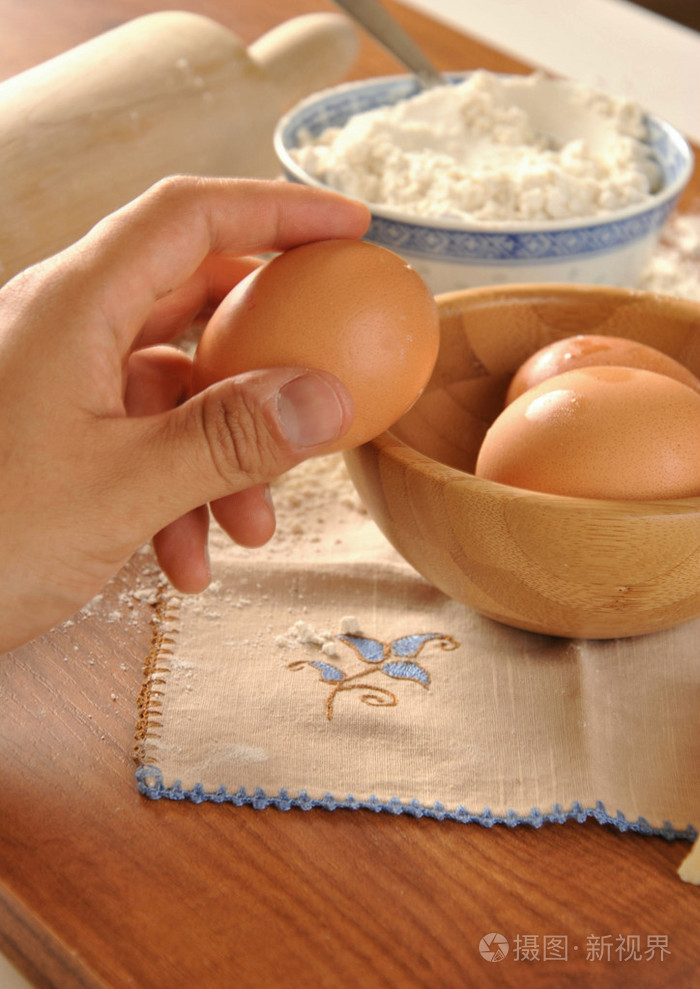no-phone: (7, 158, 447, 659)
